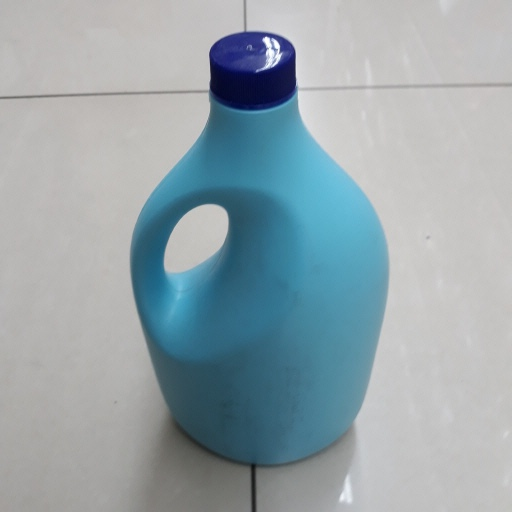Plastic_1: (131, 31, 392, 461)
